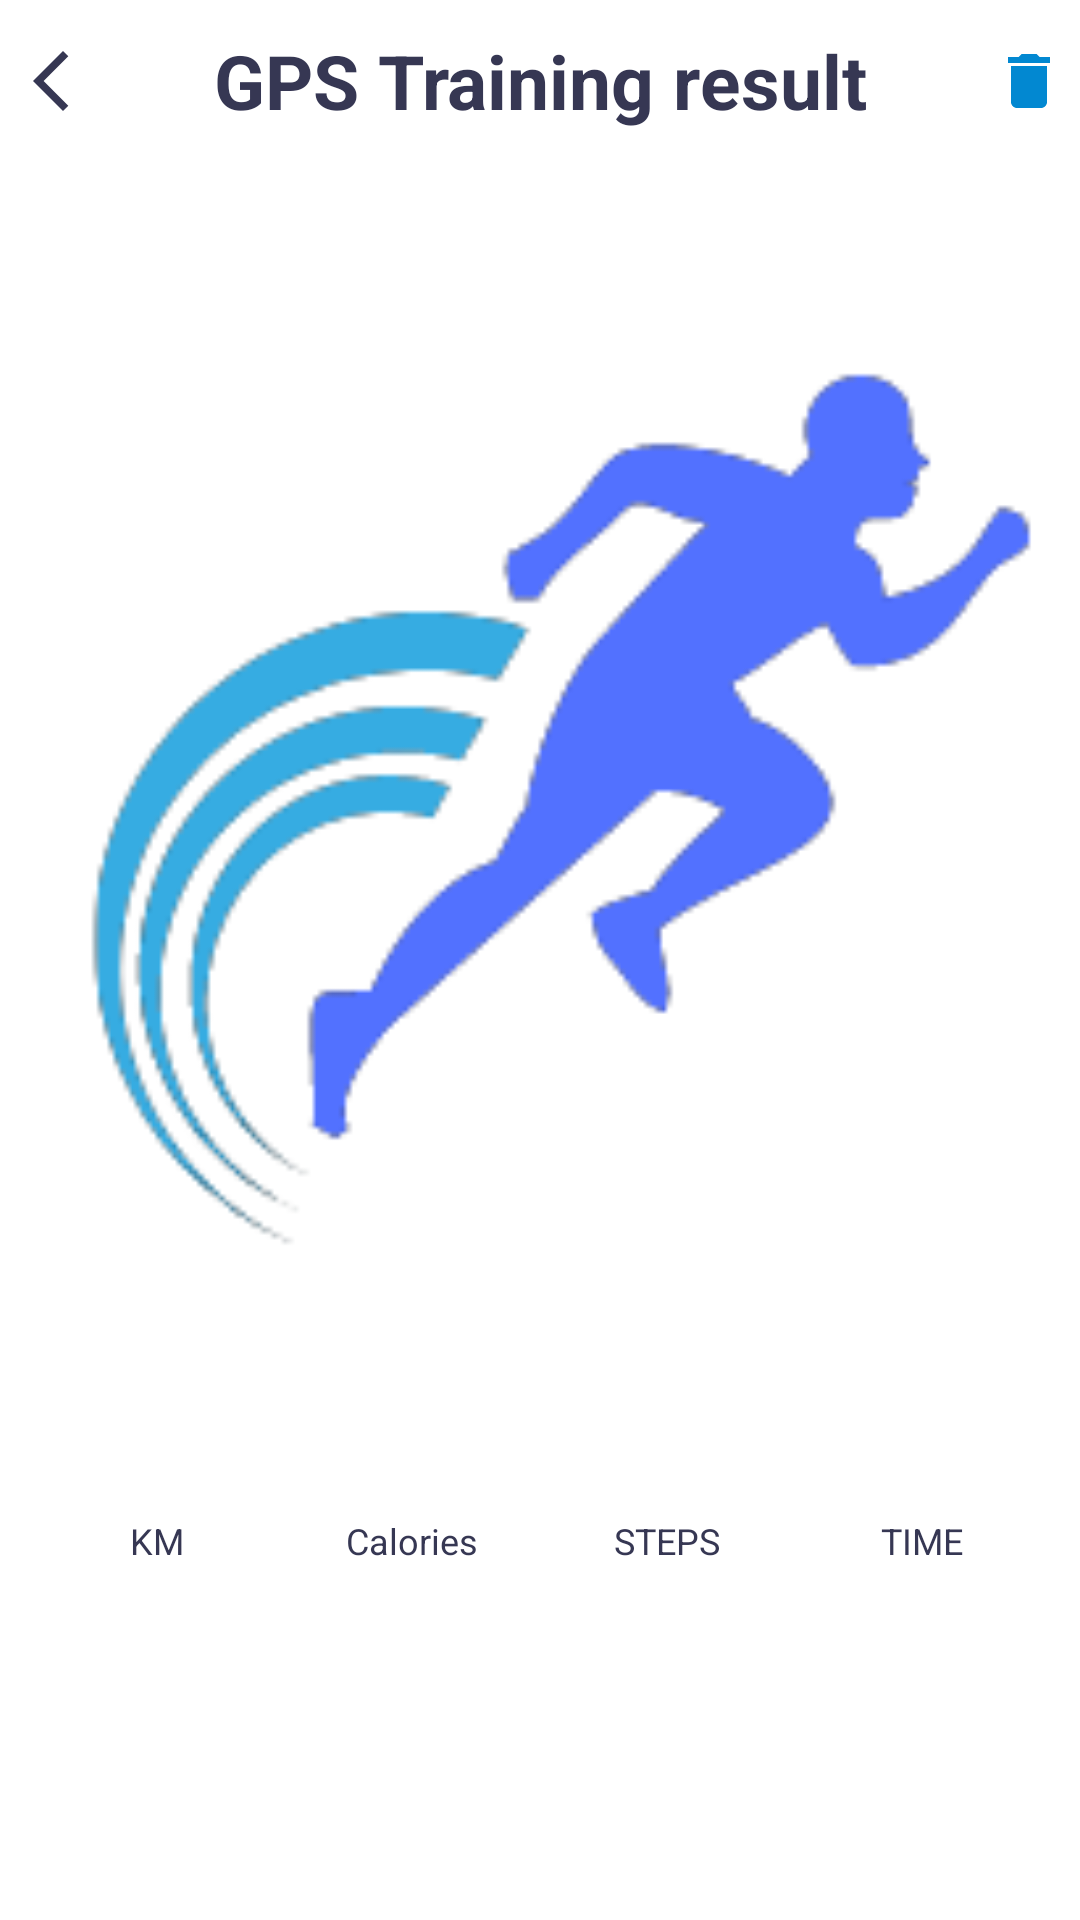

Screen size 1080px x 1920px. Icon name, then its center in pixels as [x,y]:
arrow back: [50,81]
delete: [1029,81]
